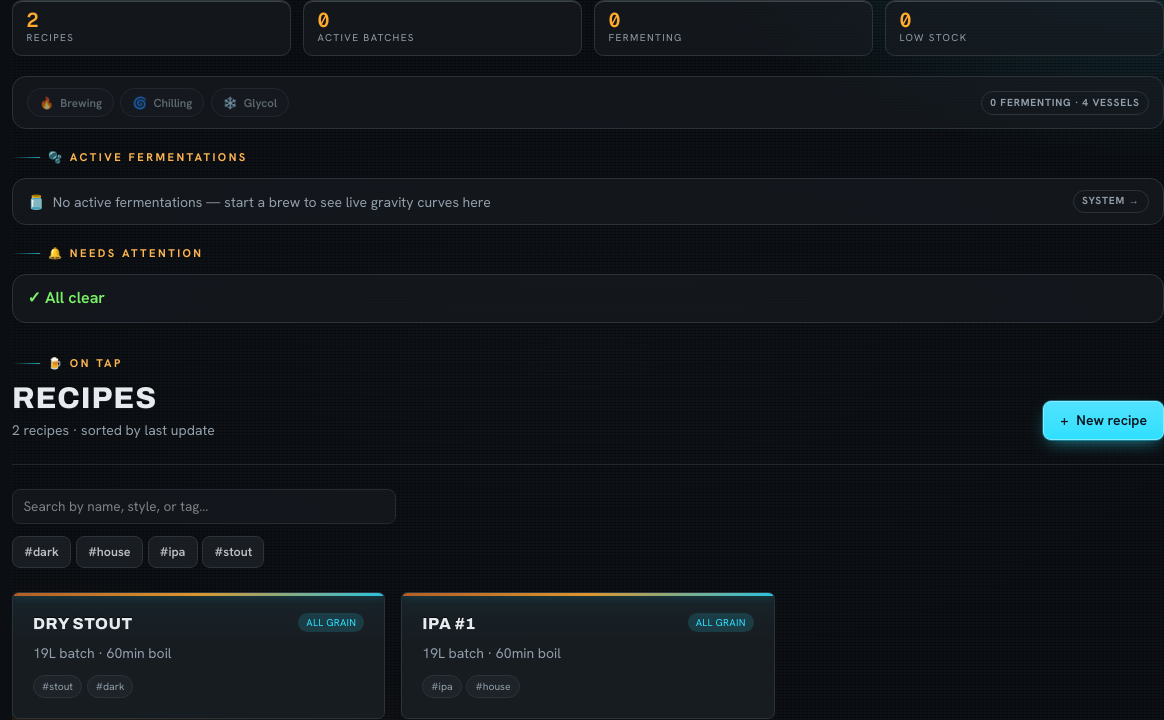
Test: RecipeListView › shows a filtered-empty message when nothing matches
Expected: the heading "IPA #1" is shown, [422, 613, 476, 635]
In the search field named "search recipes": [204, 506] box [12, 488, 396, 524], type "zzznope"
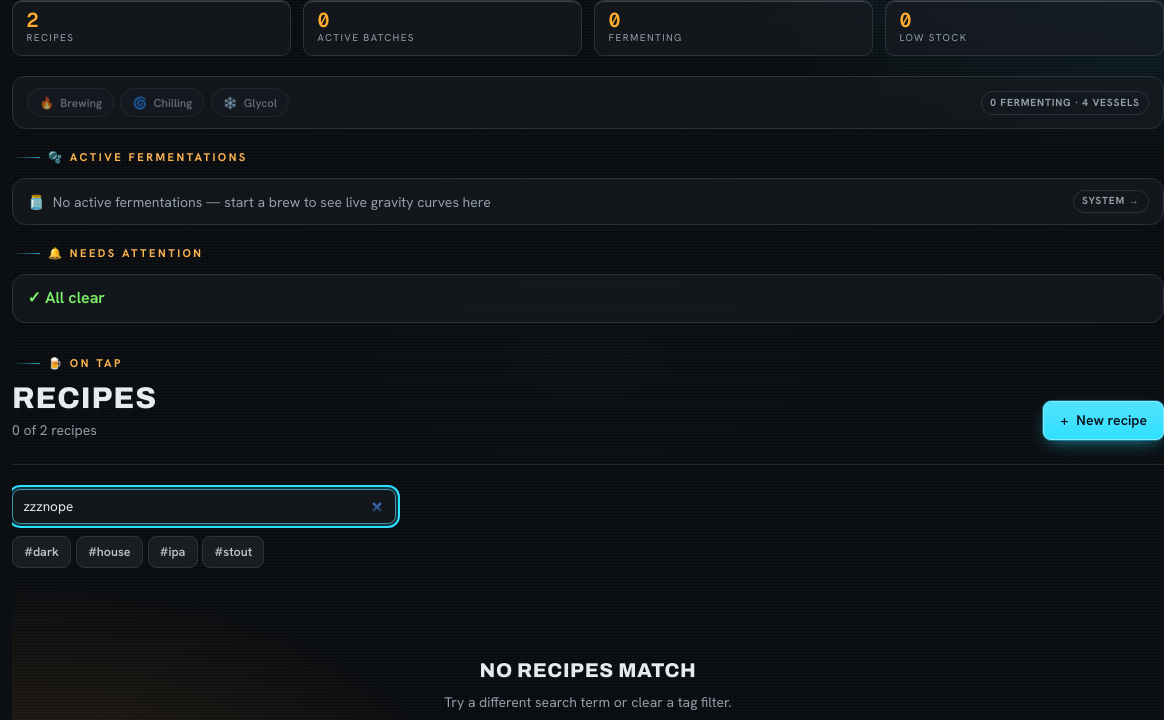
Now the heading "No recipes match" is shown, box [480, 656, 696, 684]
Now the link "IPA #1" is gone
Now the link "Dry Stout" is gone
